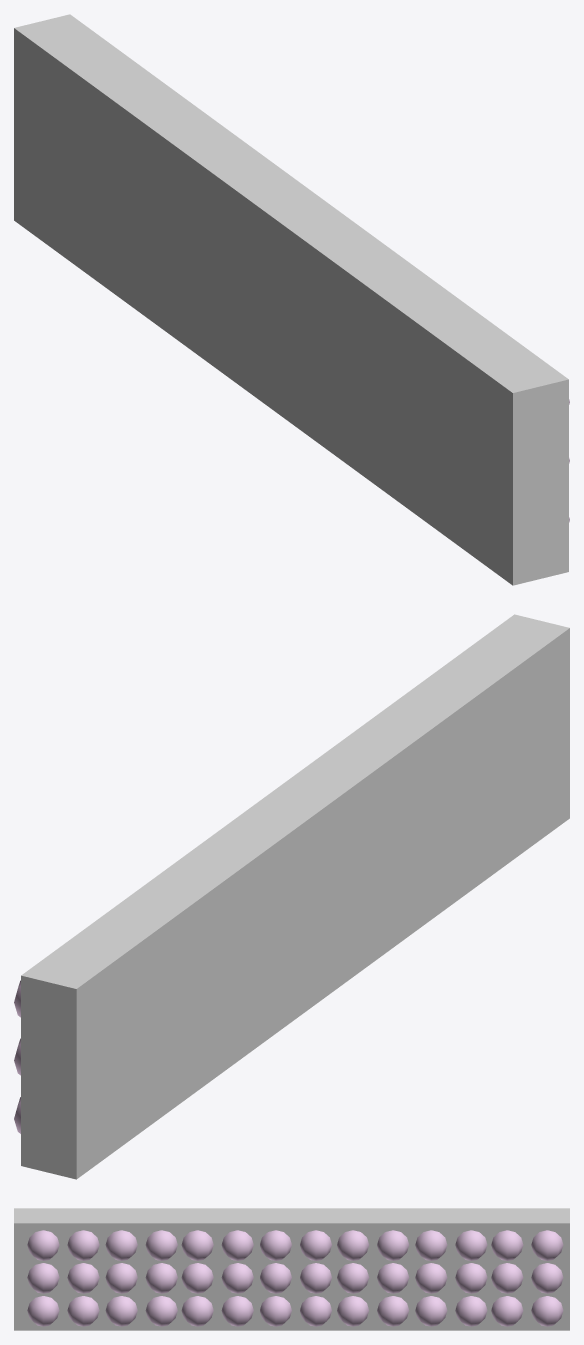
Rendered from PanelLuces.fbx.
3 views of the same model, one above another, from view 1: azimuth 30°, elevation 25°; view 2: azimuth 150°, elevation 25°; view 3: azimuth 270°, elevation 25° (orthographic). The views are drawn at different scales.
Parts seen in each view (by area): view 1: Cube; view 2: Cube; view 3: Cube, Sphere.041.
Boxes of the visible parts, box(x1,y1,x2,y2) form: Cube: box(14, 14, 568, 585); Cube: box(21, 614, 569, 1179); Cube: box(14, 1208, 569, 1330); Sphere.041: box(27, 1230, 563, 1326).
Bounding box in the file's own units: 69.49 × 159 × 745.
